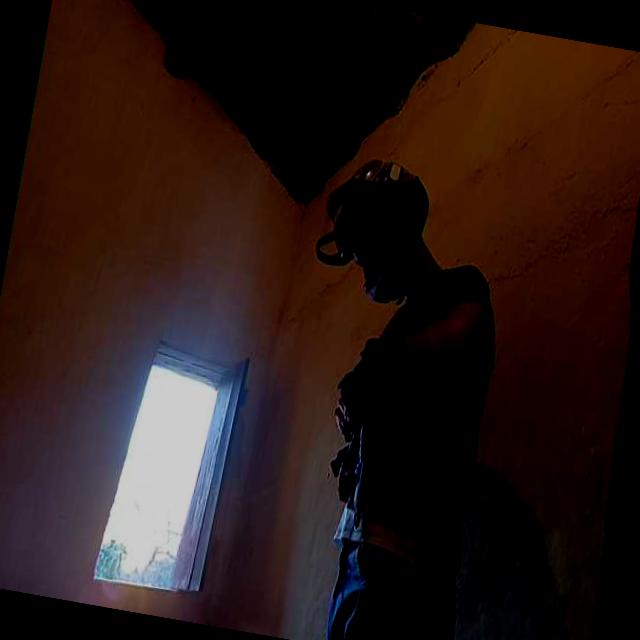capacete: (309, 156, 420, 300)
colete: (334, 240, 500, 514)
pessoa: (267, 195, 528, 640)
